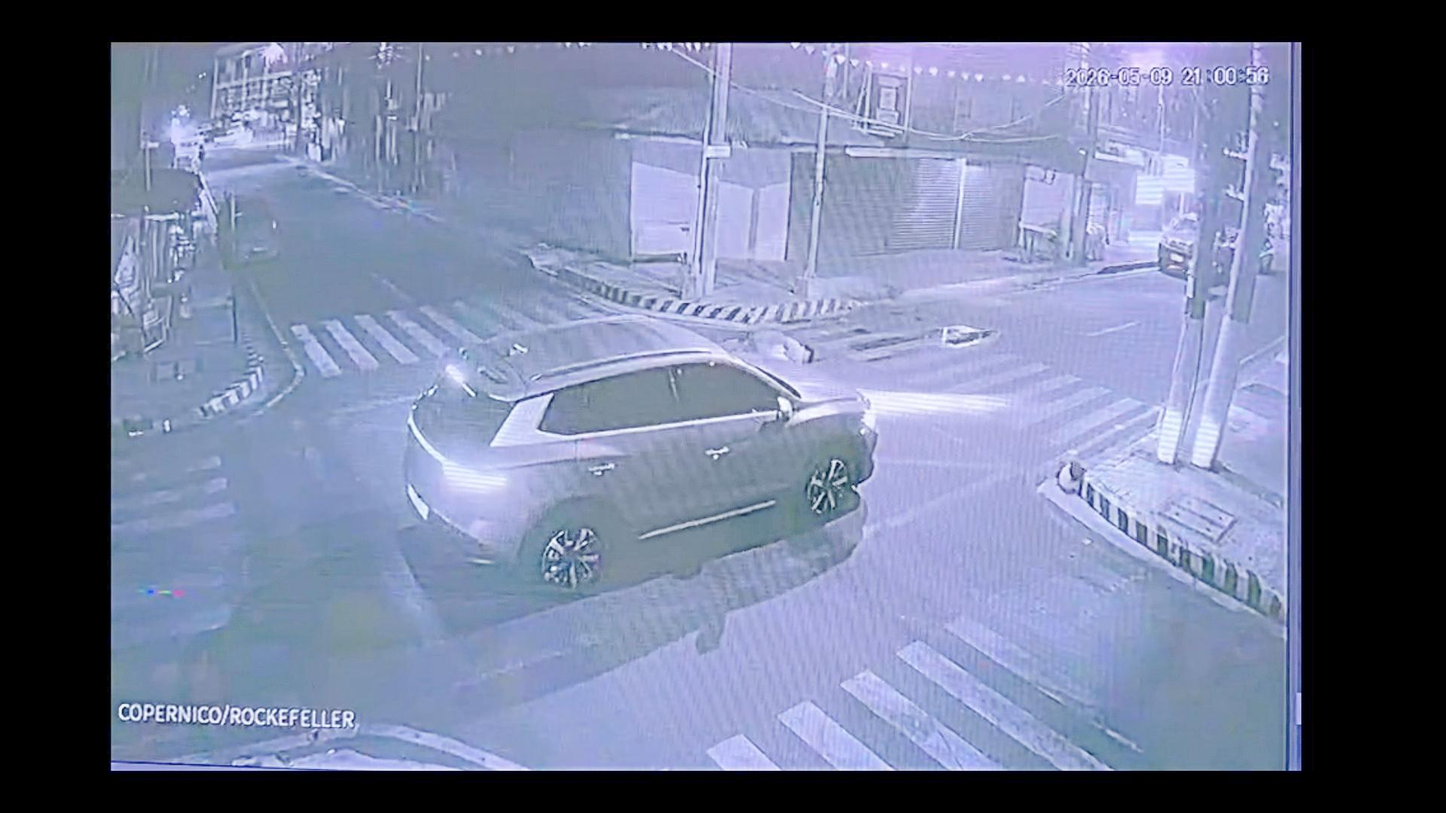Car: (419, 331, 864, 550)
Minor Accident: (418, 327, 867, 554)
Motor: (719, 329, 821, 373)
